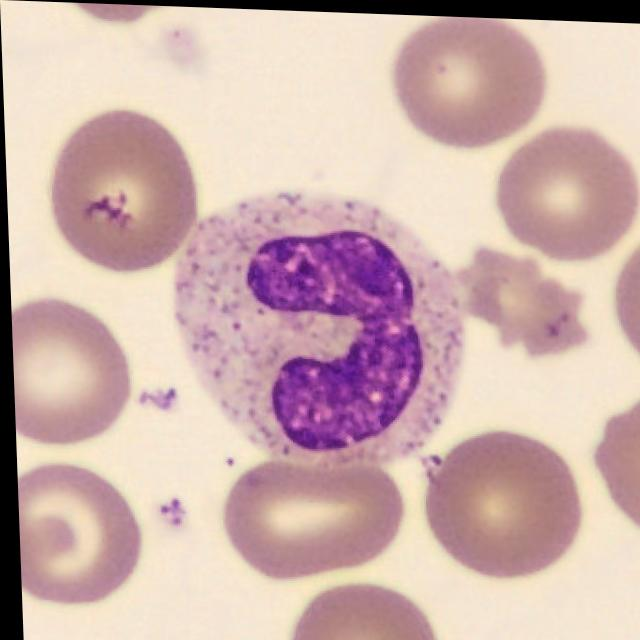Neutrofilo segmentado: (170, 189, 463, 465)
